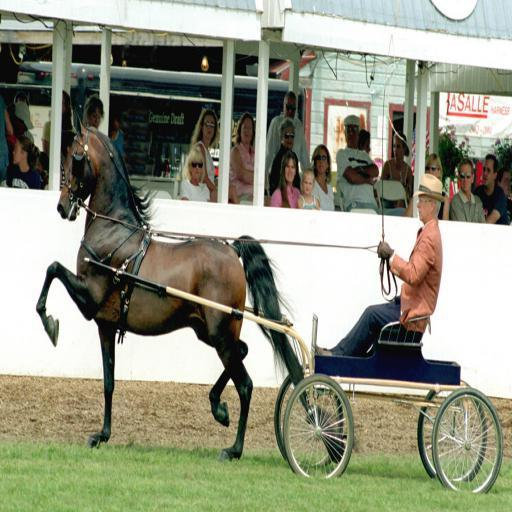horse: (33, 106, 308, 462)
